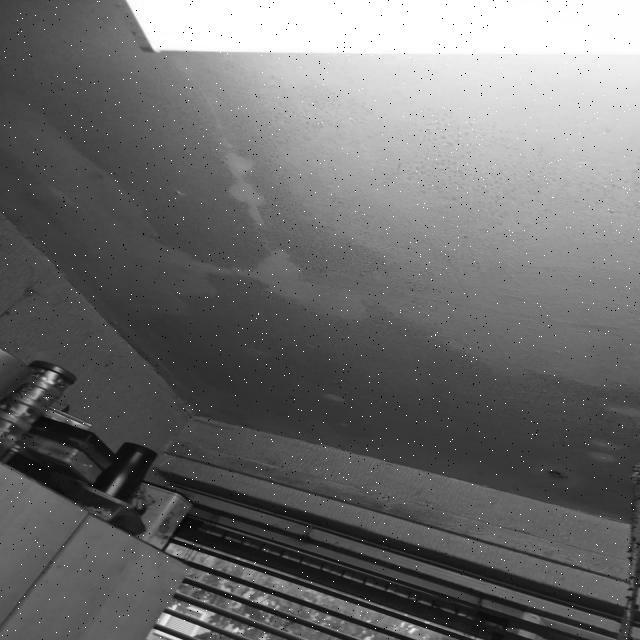stain marks: (106, 268, 457, 370), (457, 328, 640, 515), (147, 54, 320, 194), (169, 370, 457, 442), (134, 199, 402, 269), (58, 0, 141, 194), (2, 1, 60, 130), (0, 128, 64, 241), (65, 202, 126, 270), (374, 439, 451, 479)
